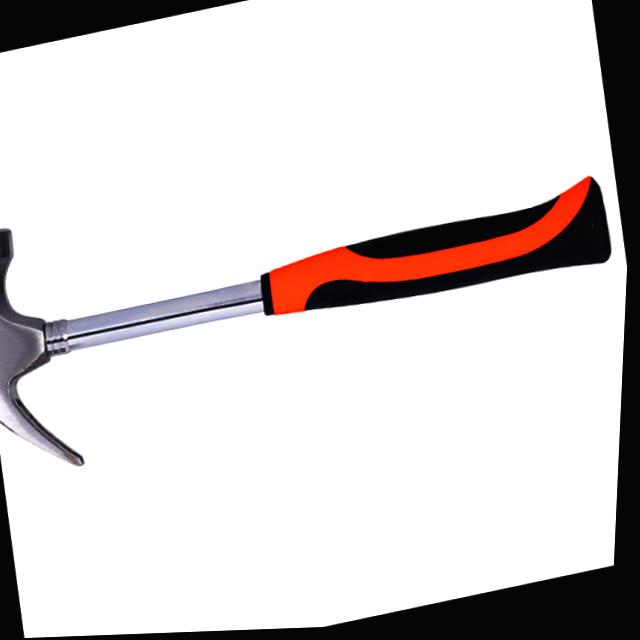hammer: (0, 93, 636, 494)
